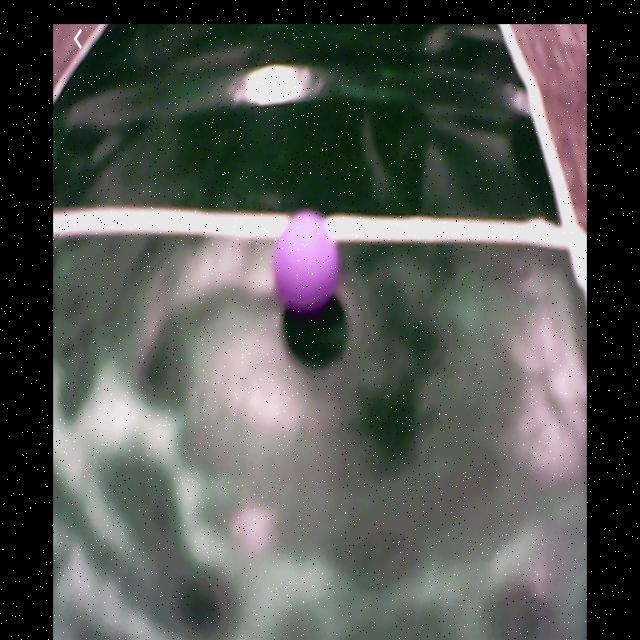ball: (272, 209, 342, 315)
